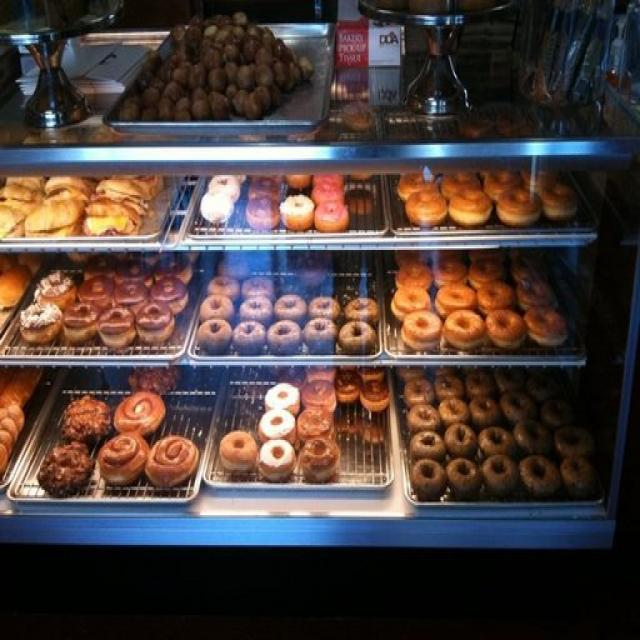Donuts: (7, 251, 640, 533), (179, 162, 599, 236)
